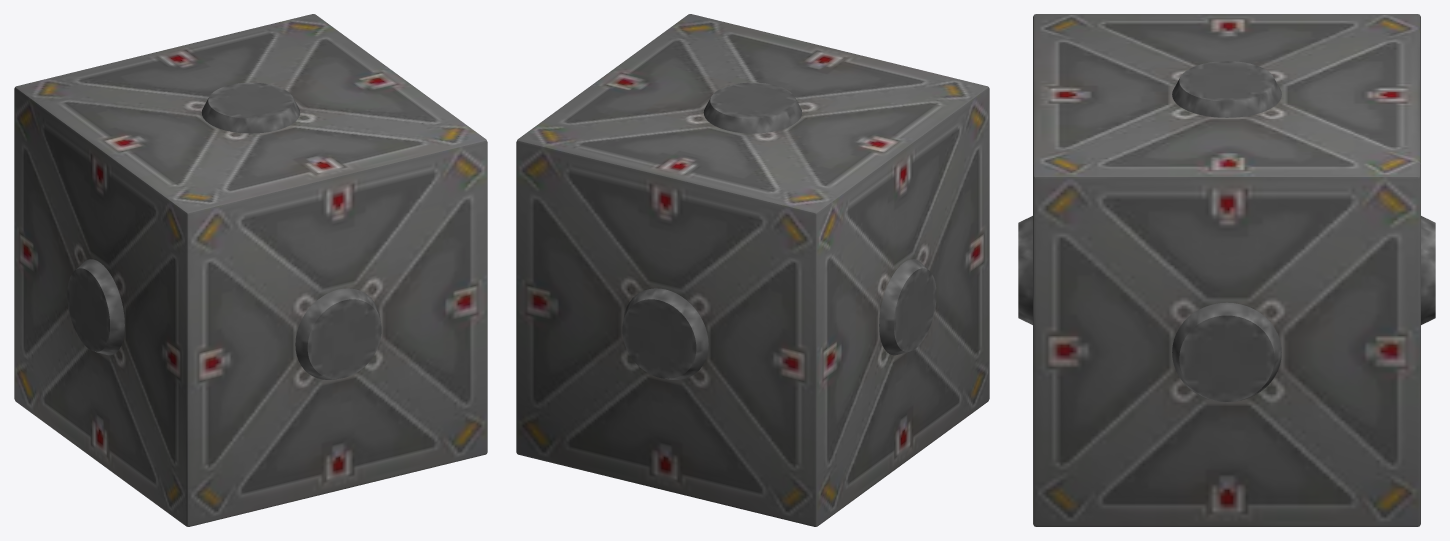
File: caisse-2.glb
3 renders of one model, left to right at view 1: azimuth 30°, elevation 25°; view 2: azimuth 150°, elevation 25°; view 3: azimuth 270°, elevation 25°, orthographic. The views are drawn at different scales.
Parts seen in each view (by area): view 1: Prop_Crate4; view 2: Prop_Crate4; view 3: Prop_Crate4.
Boxes of the visible parts, x1,y1,x2,y2 form: Prop_Crate4: [14, 14, 487, 526]; Prop_Crate4: [516, 14, 989, 526]; Prop_Crate4: [1018, 14, 1435, 526].
Size of the model in its own units: 1.12 by 1.12 by 1.12.
1 material, 1 textured.
